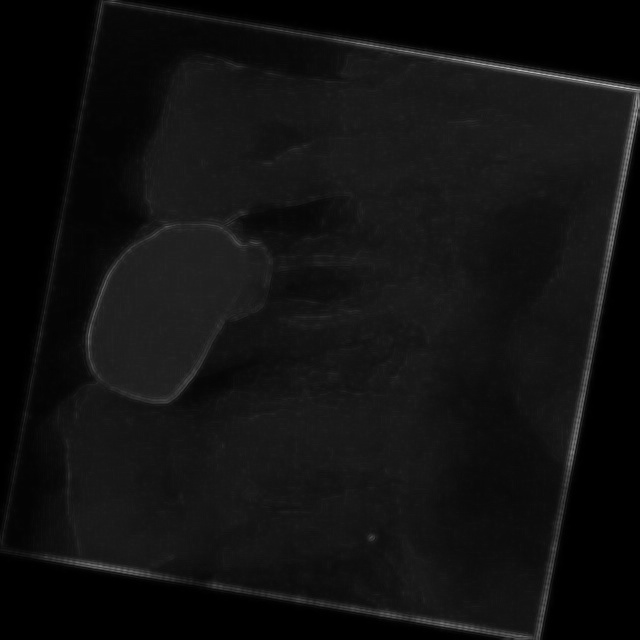Class 1- complete endodontic treatment: (49, 159, 482, 486)
